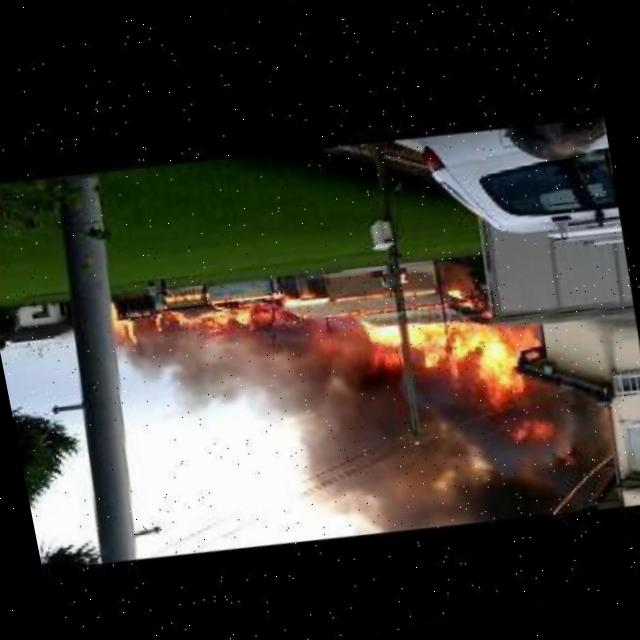fire: (346, 276, 566, 424), (156, 286, 292, 346), (210, 284, 285, 308), (109, 297, 143, 343), (512, 409, 559, 437), (164, 285, 213, 306), (441, 275, 472, 302)
